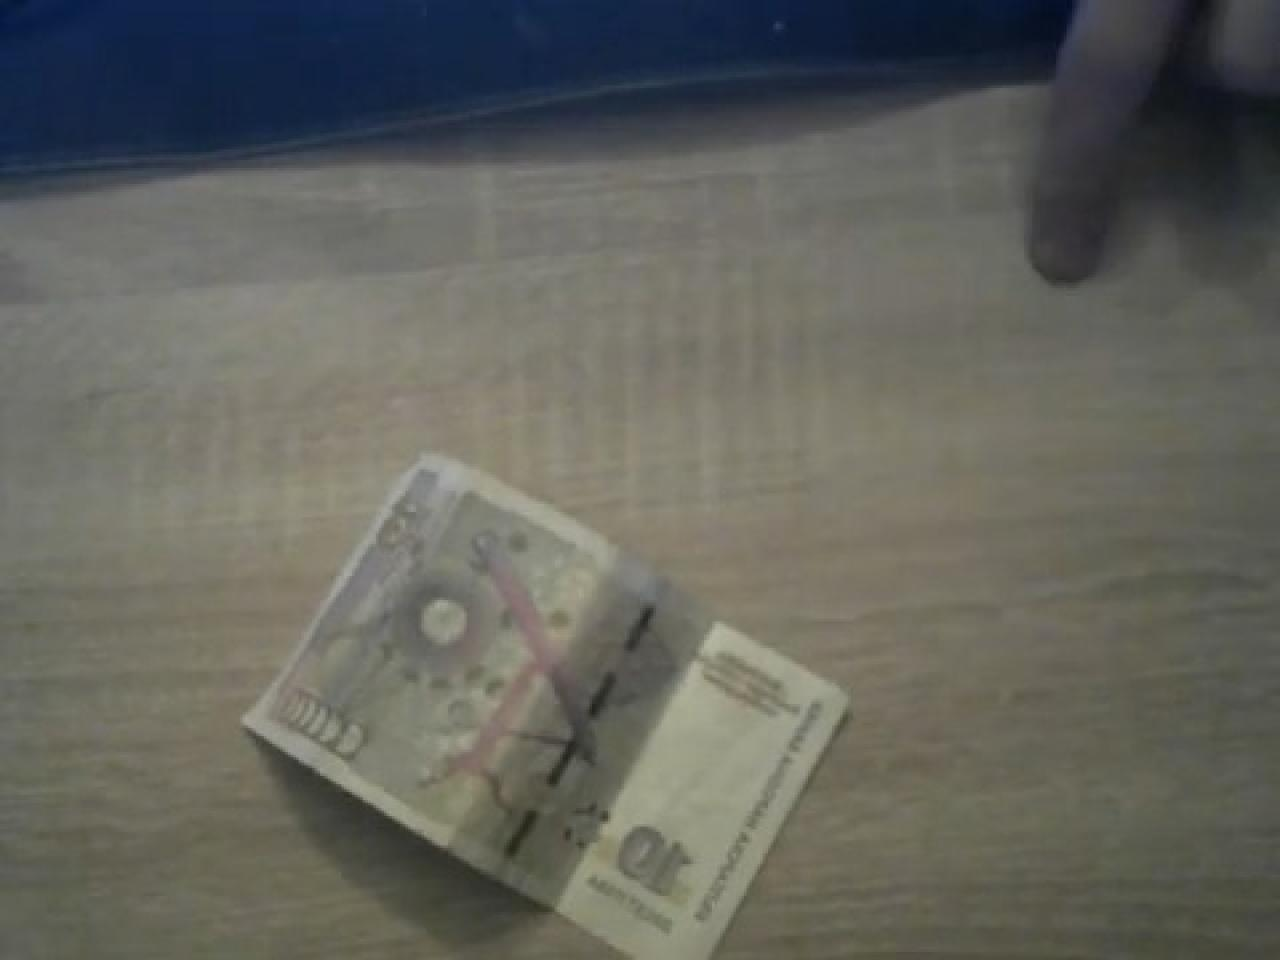10leva: (243, 456, 851, 960)
